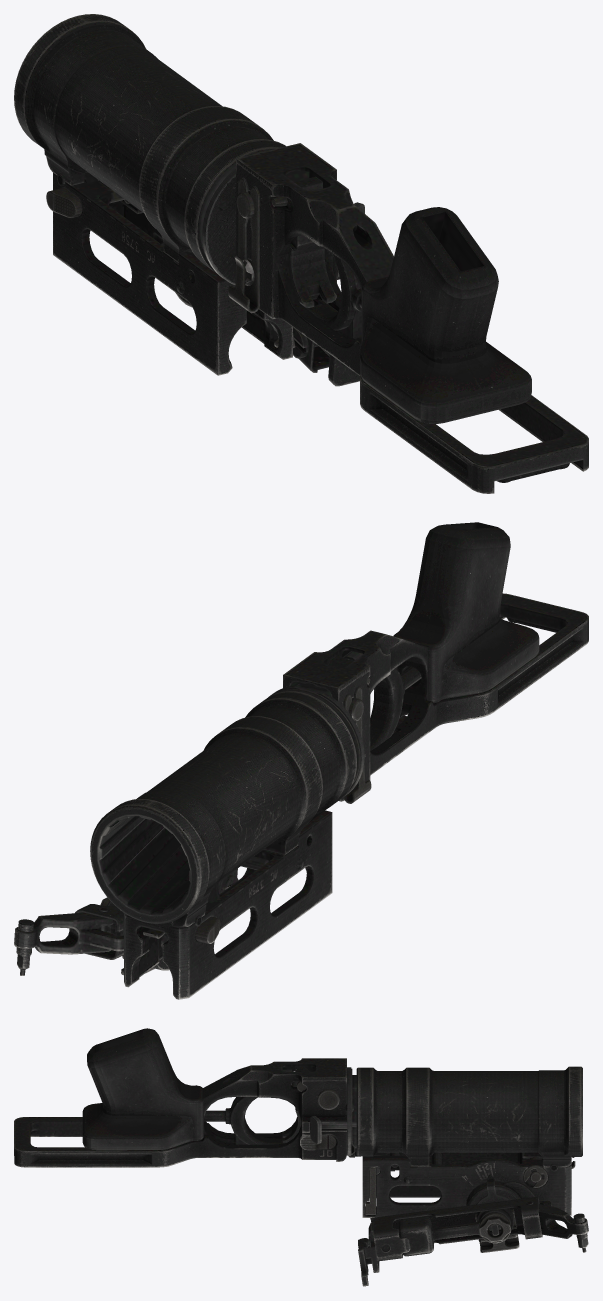
The picture shows the model from 3 angles, top to bottom: view 1: azimuth 30°, elevation 25°; view 2: azimuth 150°, elevation 25°; view 3: azimuth 270°, elevation 25°; orthographic projection. The views are drawn at different scales.
Visible parts, largest first — view 1: TW_62e7e7bbe6da9612f743f1e0_range150_PZ_Import; view 2: TW_62e7e7bbe6da9612f743f1e0_range150_PZ_Import; view 3: TW_62e7e7bbe6da9612f743f1e0_range150_PZ_Import.
Boxes of the visible parts, x1,y1,x2,y2 form: TW_62e7e7bbe6da9612f743f1e0_range150_PZ_Import: (14, 14, 588, 493); TW_62e7e7bbe6da9612f743f1e0_range150_PZ_Import: (14, 522, 588, 999); TW_62e7e7bbe6da9612f743f1e0_range150_PZ_Import: (14, 1028, 588, 1286).
Bounding box in the file's own units: 0.0529 × 0.187 × 0.0738.
1 material, 1 textured.
